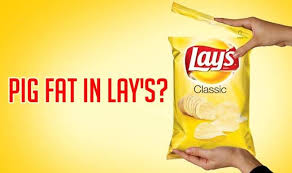lays-large: (168, 31, 252, 151)
